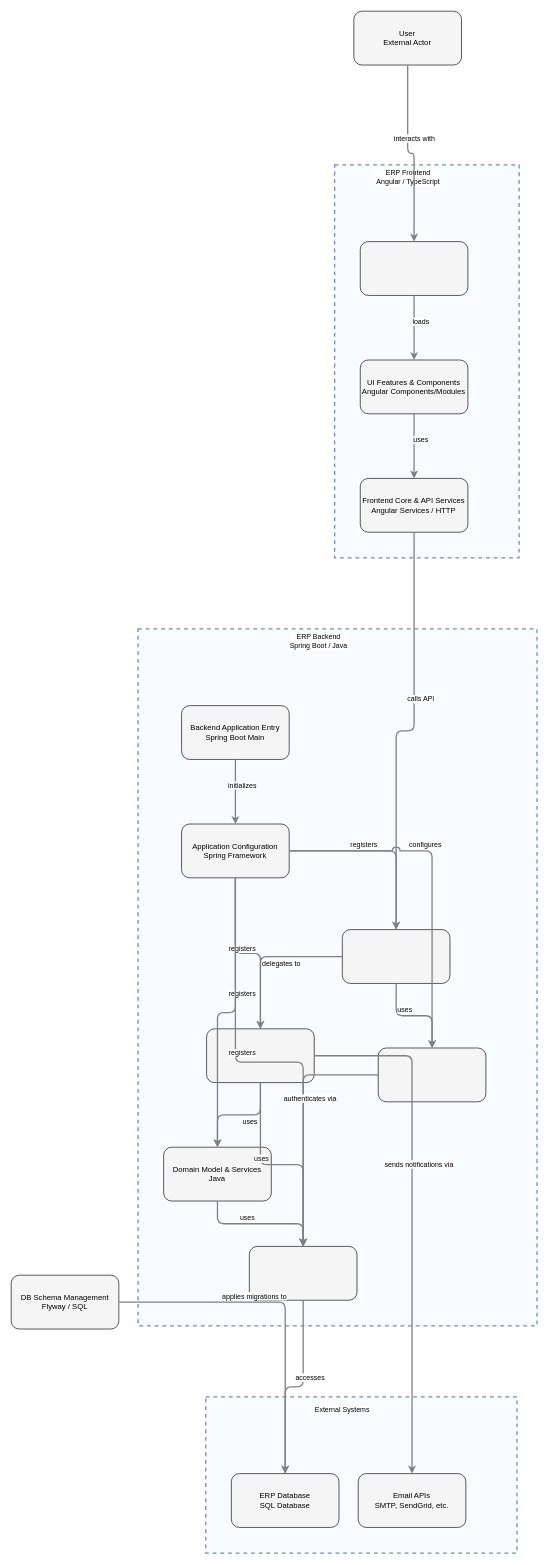
The diagram is 549 pixels wide and 1565 high, and some of its shapes have lost their labels. The box of each missing label's shape, as (x1, y1, x2, y2) in pixels:
Angular App Shell Angular / TypeScript: (360, 241, 468, 295)
API Controllers Spring MVC: (342, 929, 450, 983)
Business Use Cases Java Use Cases: (206, 1028, 314, 1083)
Data Repositories Spring Data JPA: (249, 1246, 357, 1300)
Security Components Spring Security: (378, 1047, 486, 1102)
